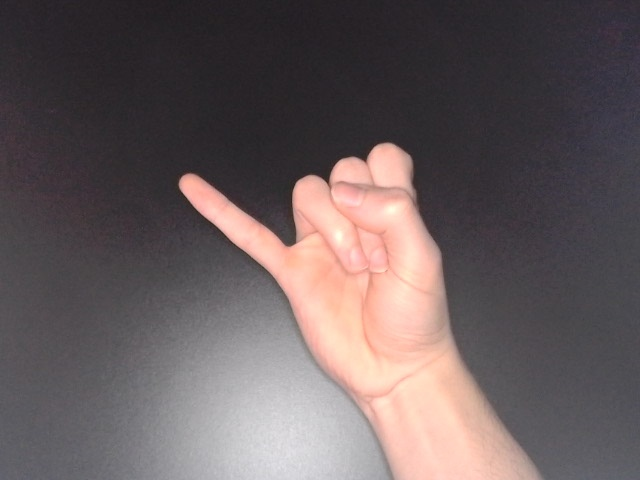j: (170, 138, 466, 417)
